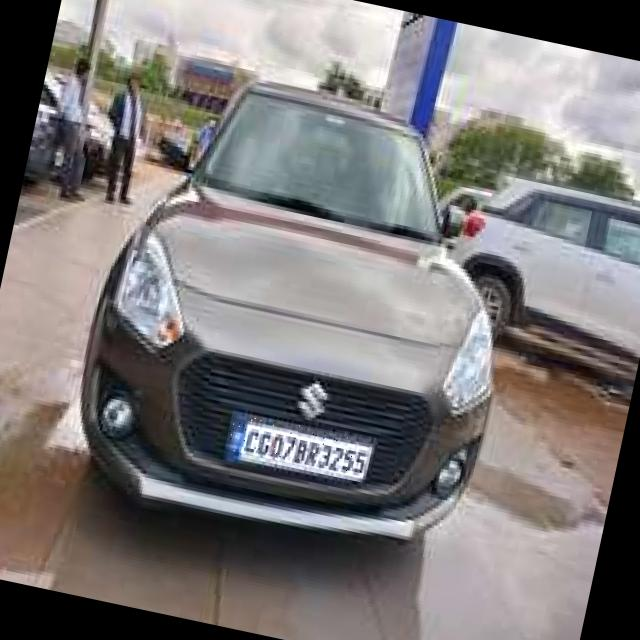Plate: (225, 412, 371, 480)
